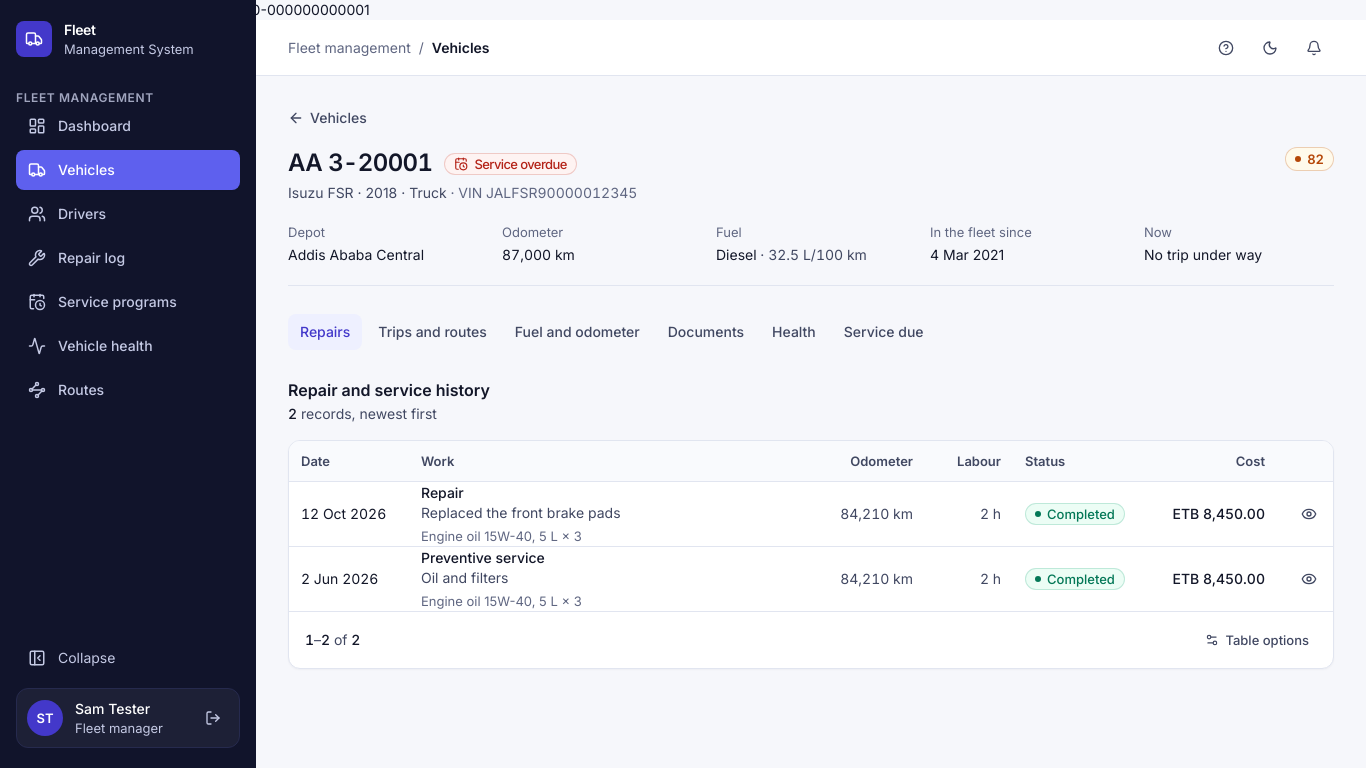
Vehicle history (S-22) › says a service is overdue in the header, which opens Service due: the program, by how much and its checklist (FMS-129)
The width and height of the screenshot is (1366, 768).
Expected: the heading "AA 3-20001 Service overdue" is shown, [288, 147, 577, 179]
Click the button with aria-label "Service overdue: A-service. Open Service due." at (511, 163), box [444, 147, 577, 179]
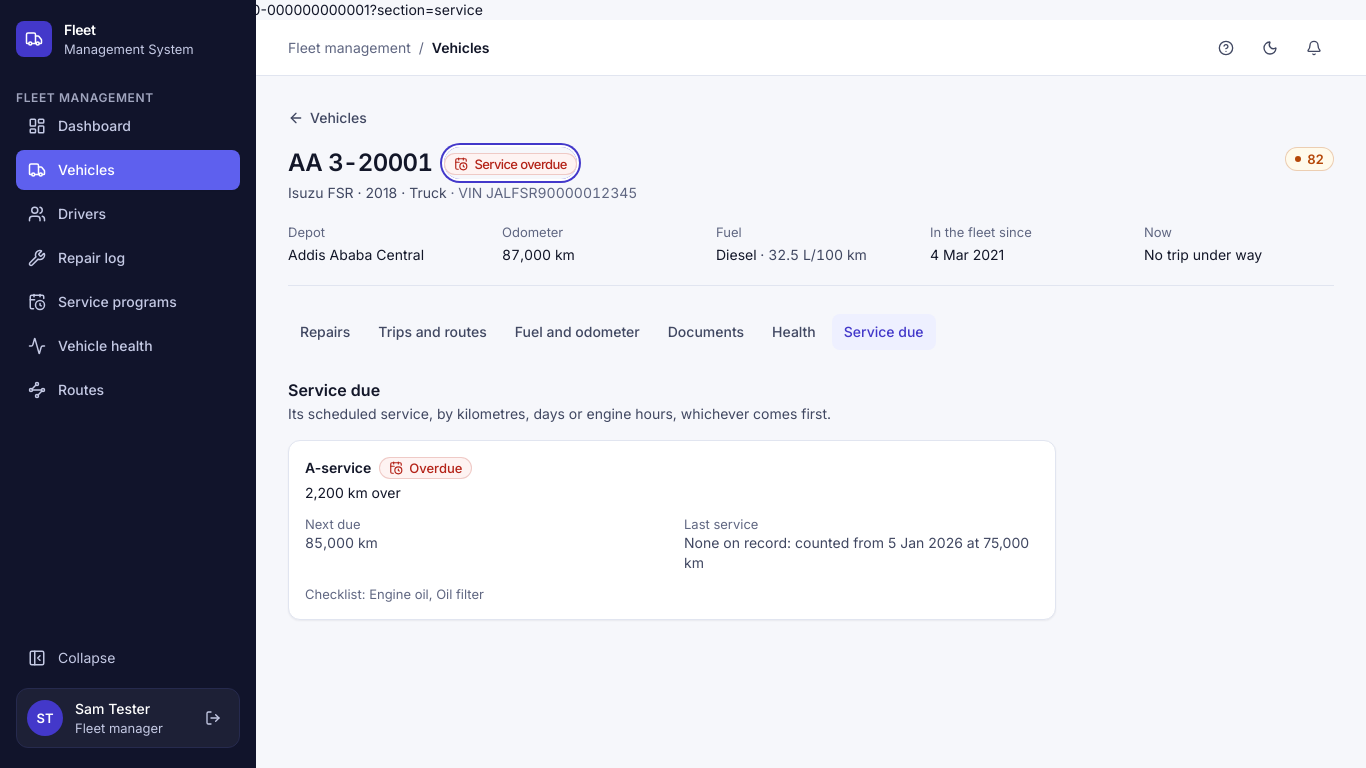
Now the text "A-service" is shown, box [305, 459, 371, 476]
Now the text "Overdue" is shown, box [379, 457, 472, 479]
Now the text "2,200 km over" is shown, box [305, 484, 401, 501]
